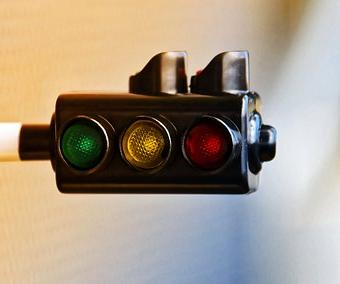trafic: (53, 97, 244, 186)
